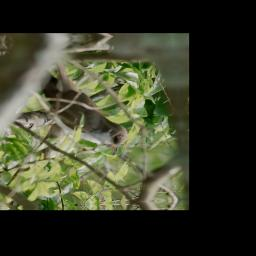Cuckoo: (35, 56, 131, 159)
